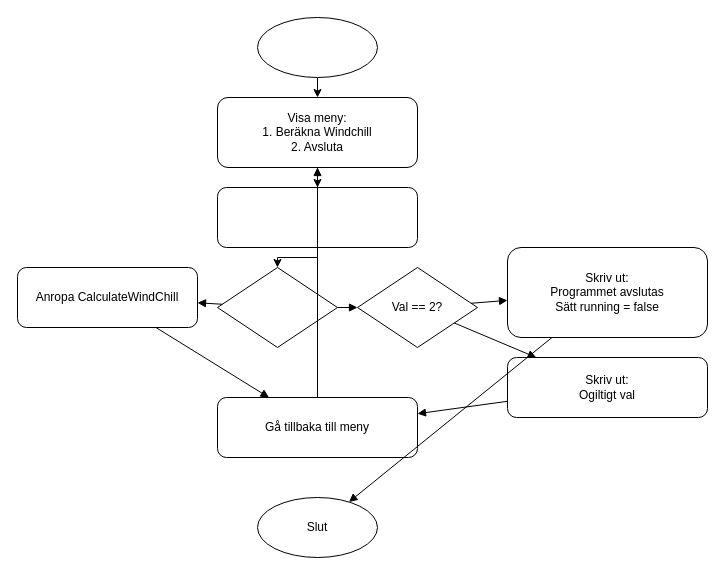
Image size: 725x575. Some labels were removed from this diagram. The shapes that lost their labels are listed below. From the top down, each one's box as (x1, y1, x2, y2) in pixels, then its label:
(256, 16, 378, 78): Start
(216, 186, 418, 248): Läs in användarens val
(216, 266, 338, 348): Val == 1?
